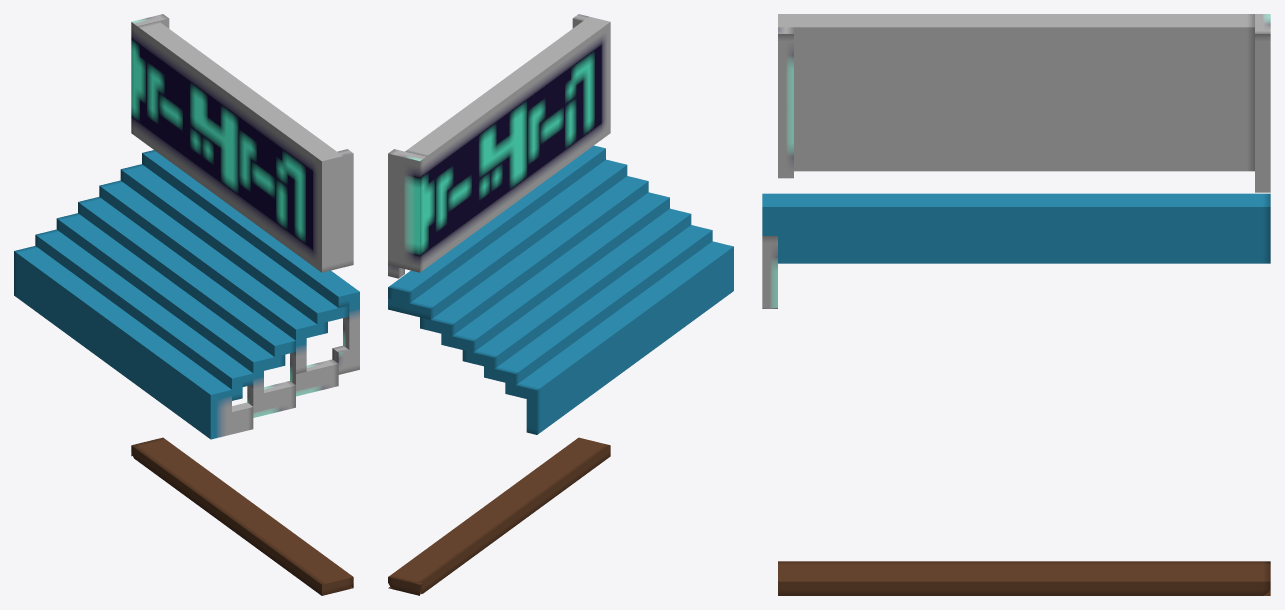
File: druga_cz_daszek.dae
3 views of the same model, side by side, from view 1: azimuth 30°, elevation 25°; view 2: azimuth 150°, elevation 25°; view 3: azimuth 270°, elevation 25° (orthographic). The views are drawn at different scales.
Parts seen in each view (by area): view 1: Content; view 2: Content; view 3: Content.
Boxes of the visible parts, <box> form: Content: <box>14,14,359,595</box>; Content: <box>388,14,733,595</box>; Content: <box>762,14,1270,595</box>.
Bounding box in the file's own units: 14 × 39 × 32.
Materials: 1 (1 with a texture image).
